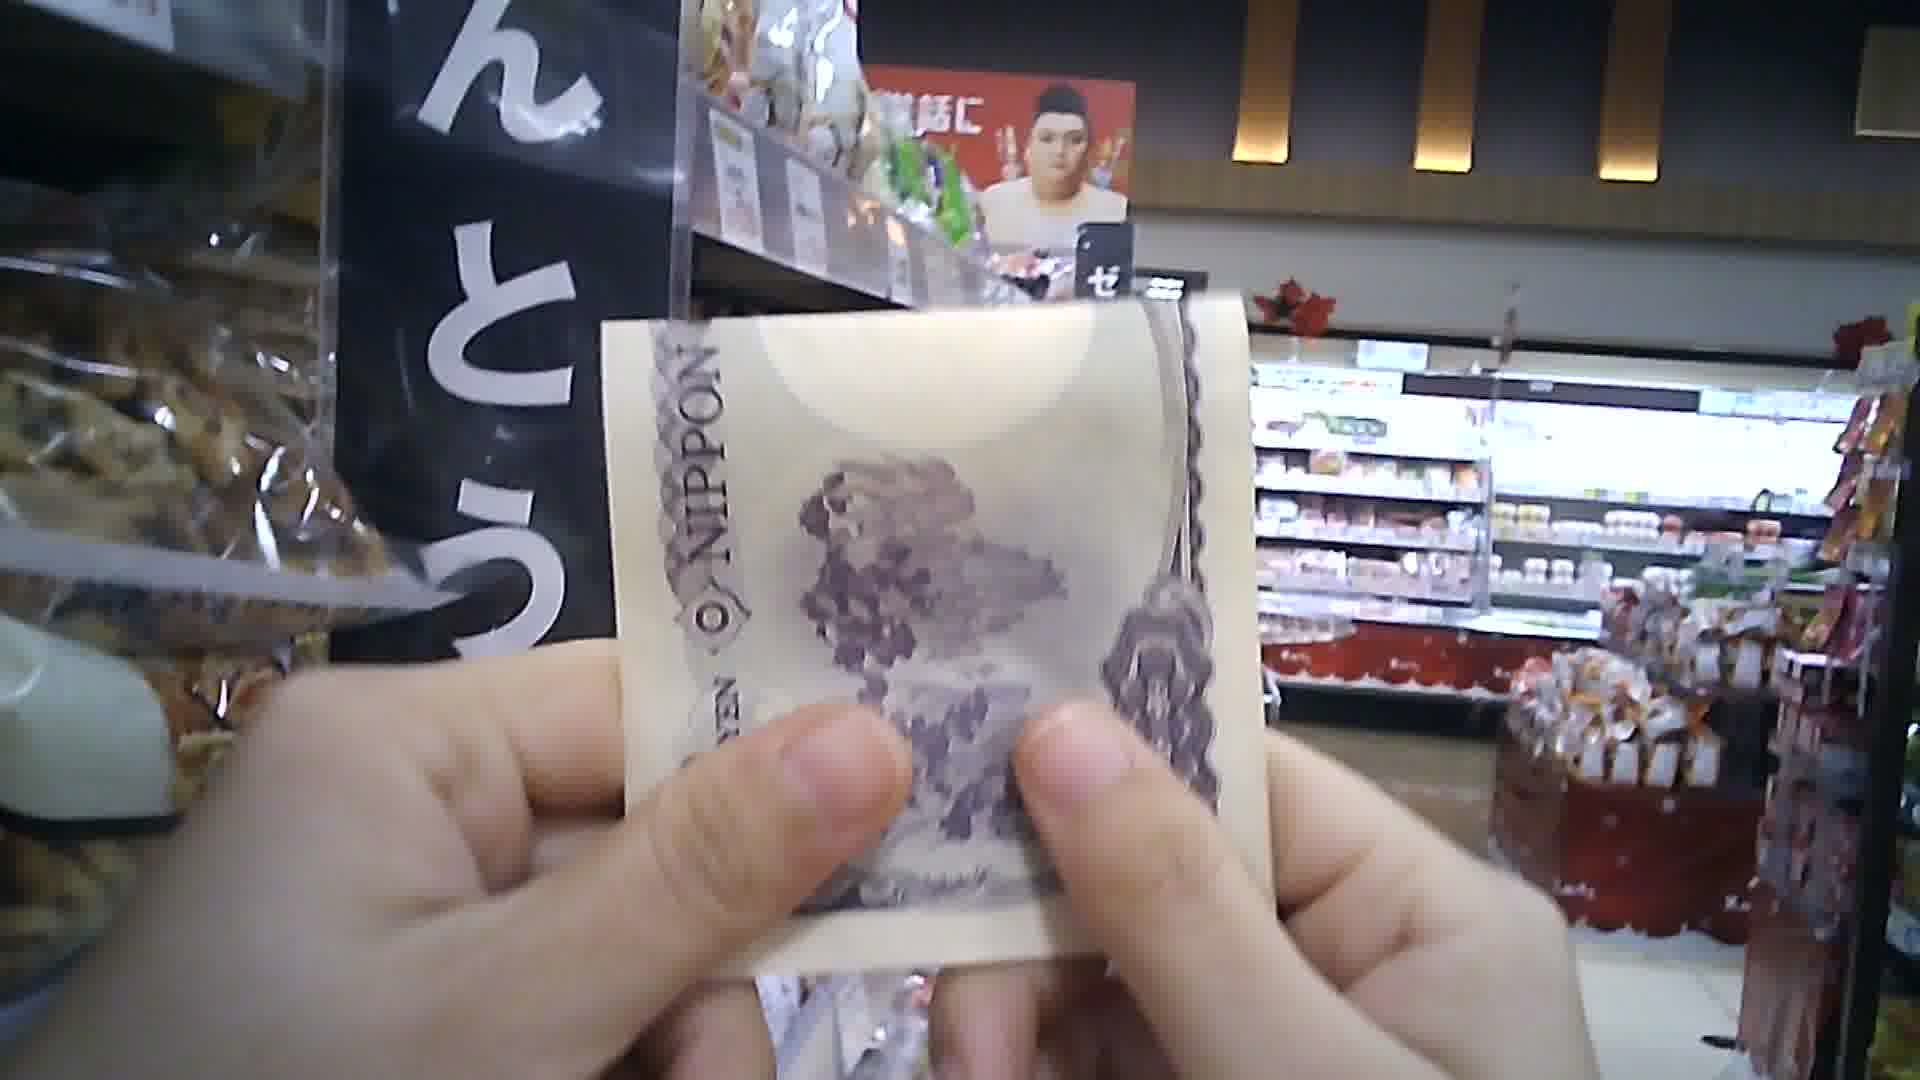5,000 Yen: (576, 268, 1303, 982)
